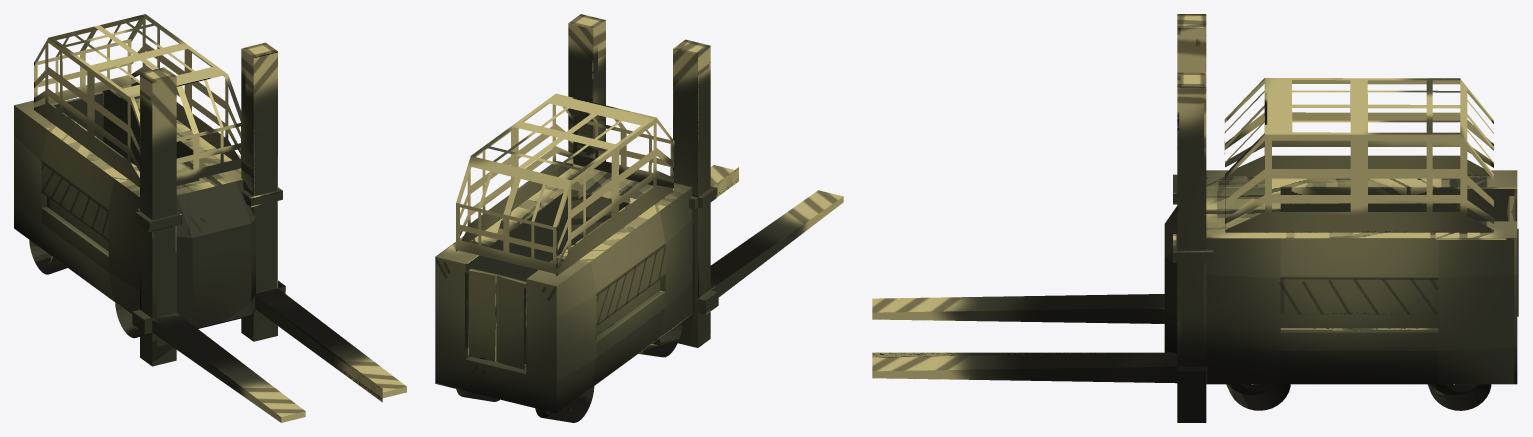
The model's file is Forklift.fbx.
3 views of the same model, side by side, from view 1: azimuth 30°, elevation 25°; view 2: azimuth 150°, elevation 25°; view 3: azimuth 270°, elevation 25° (orthographic). The views are drawn at different scales.
Visible parts, largest first — view 1: Cube; view 2: Cube; view 3: Cube.
Part boxes in pixels (bbox=[...]): Cube: bbox=[14, 14, 406, 422]; Cube: bbox=[435, 14, 843, 422]; Cube: bbox=[872, 14, 1518, 422].
Size of the model in its own units: 610 by 1172 by 2042.
1 material, 1 textured.
